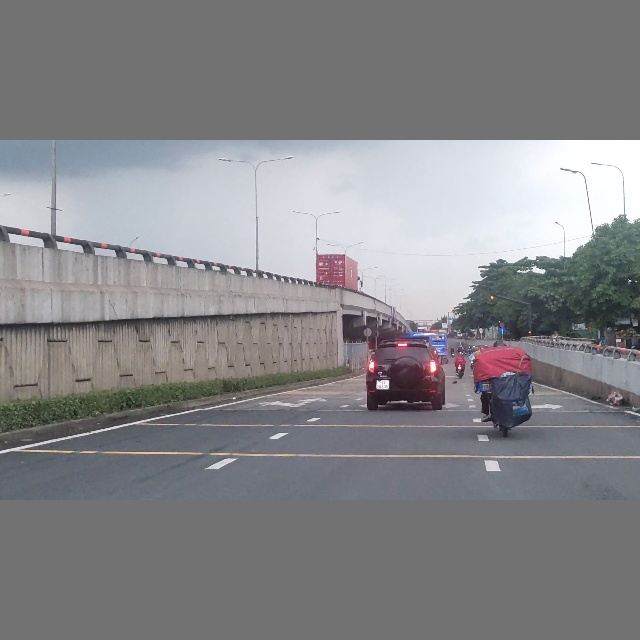I.407a: (499, 328, 506, 334)
